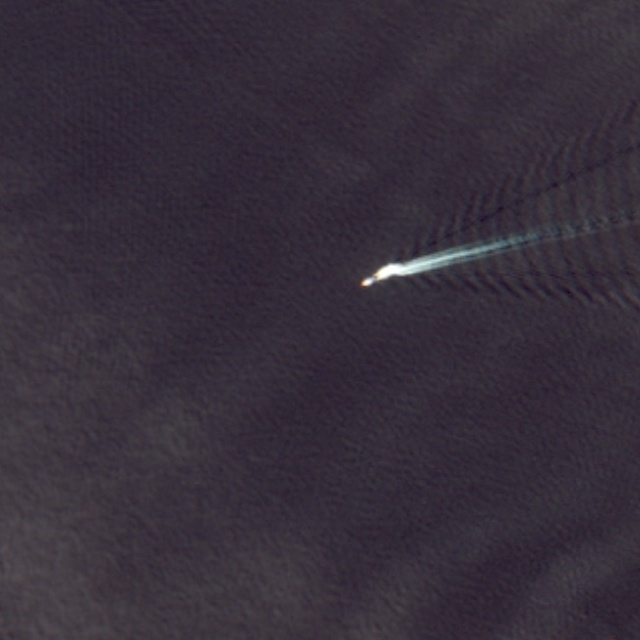wake: (335, 150, 606, 347)
